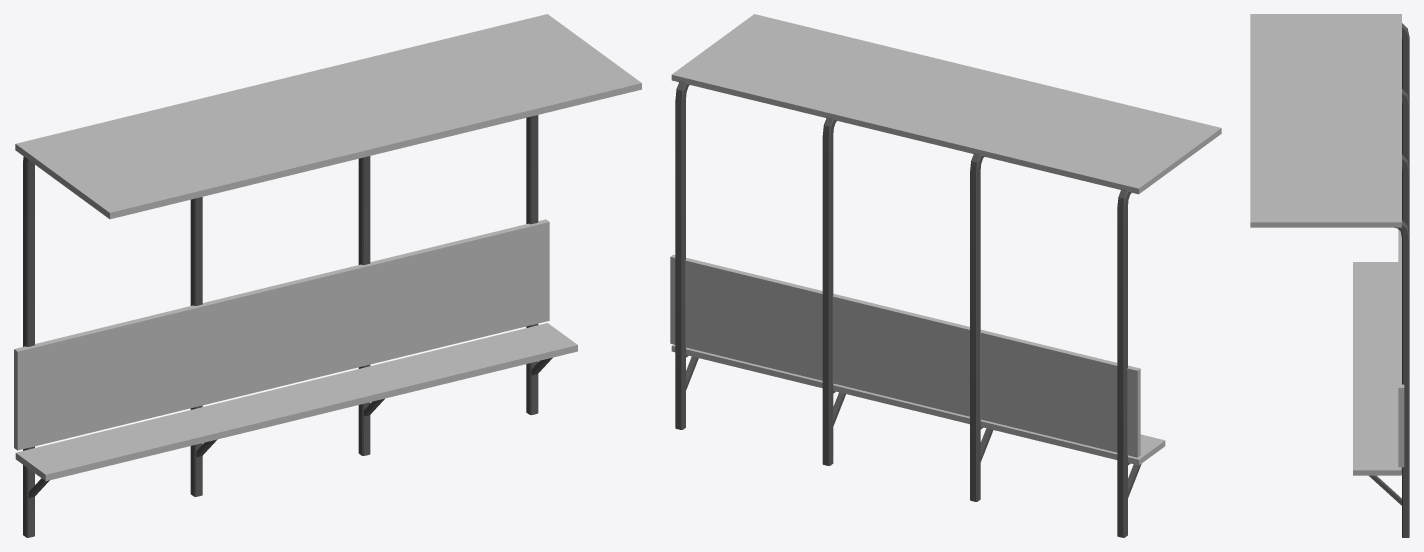
The model's file is SM_BusStop_01.FBX.
3 renders of one model, left to right at view 1: azimuth 30°, elevation 25°; view 2: azimuth 150°, elevation 25°; view 3: azimuth 270°, elevation 25°, orthographic. The views are drawn at different scales.
Parts seen in each view (by area): view 1: SM_BusStop_01; view 2: SM_BusStop_01; view 3: SM_BusStop_01.
Boxes of the visible parts, bbox=[...] form: SM_BusStop_01: bbox=[14, 14, 641, 537]; SM_BusStop_01: bbox=[670, 14, 1221, 537]; SM_BusStop_01: bbox=[1250, 14, 1409, 537].
Bounding box in the file's own units: 3.17 × 2.26 × 1.03.
Materials: 1 (1 with a texture image).
